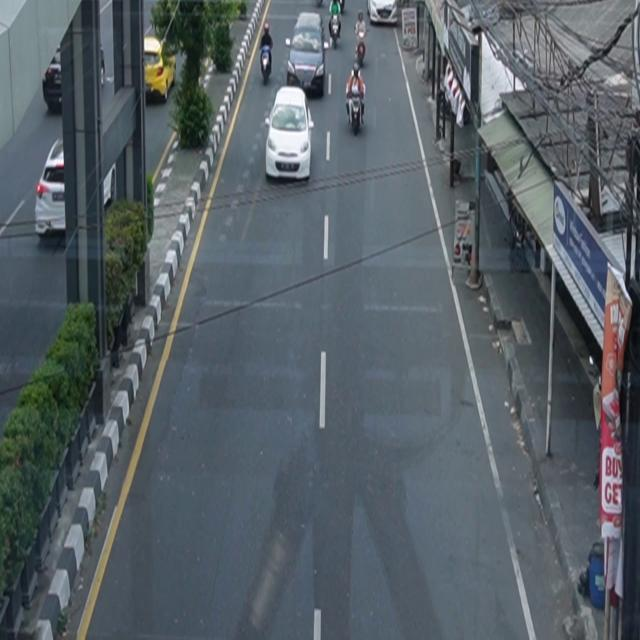car: (35, 137, 117, 239), (265, 86, 315, 182), (144, 36, 177, 103), (367, 1, 398, 26)
